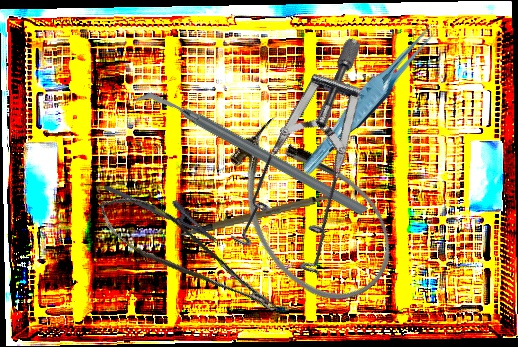Cannula: (203, 100, 415, 325)
Chopper: (132, 26, 371, 283)
Micro Scissor: (89, 176, 282, 343)
Needle Holder: (103, 169, 227, 245)
Scalpel Handle: (174, 189, 341, 238)
Speculum: (178, 35, 456, 303)
Tissue Forceps: (290, 19, 452, 178)
